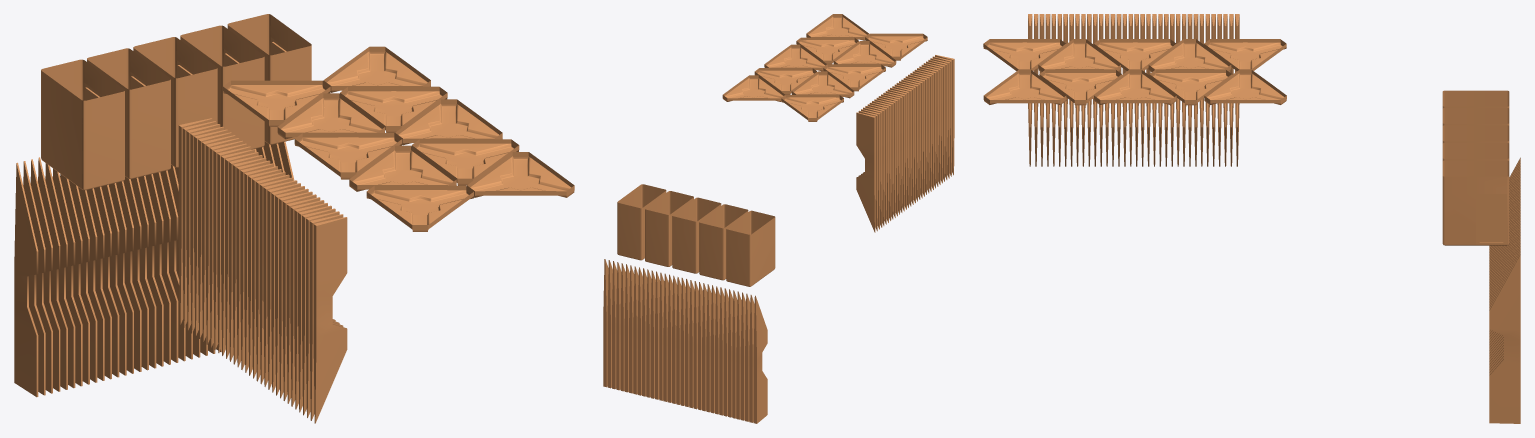
Rendered from wallGreeble_01.fbx.
The picture shows the model from 3 angles, left to right: view 1: azimuth 30°, elevation 25°; view 2: azimuth 150°, elevation 25°; view 3: azimuth 270°, elevation 25°; orthographic projection. The views are drawn at different scales.
Visible parts, largest first — view 1: wallGreeble_01; view 2: wallGreeble_01; view 3: wallGreeble_01.
Boxes of the visible parts, <box> form: wallGreeble_01: <box>14,14,574,423</box>; wallGreeble_01: <box>603,14,954,423</box>; wallGreeble_01: <box>983,14,1520,423</box>.
Size of the model in its own units: 19.14 by 25.82 by 41.08.
